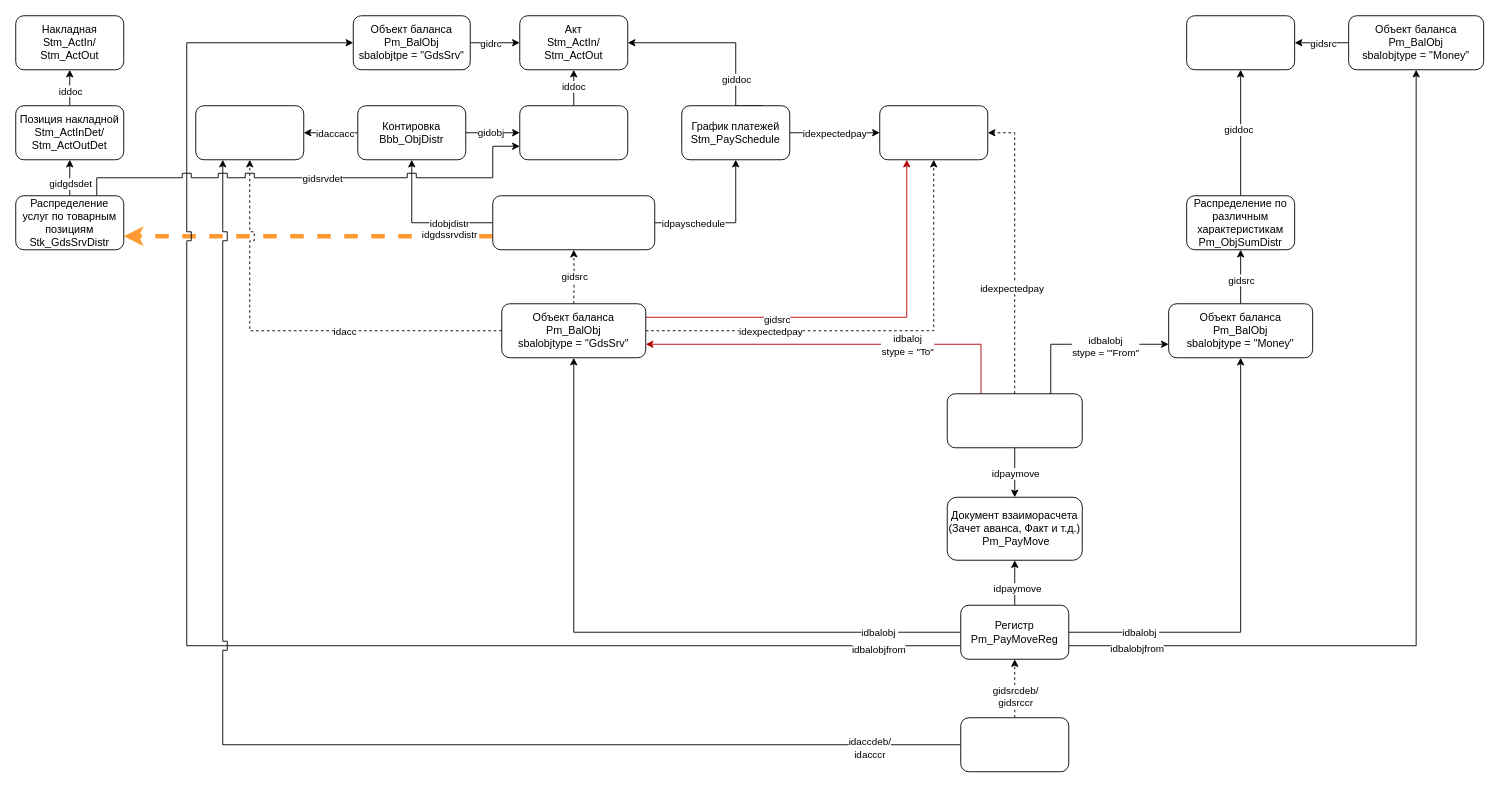
Image size: 1499x788. Some labels were removed from this diagram. Here are the shapes that lost their labels. From the top down, the centre of each, then its label:
At (x=1240, y=42): "Платежное поручение Pm_OrderBankIn/ Pm_OrderBankOut".
At (x=249, y=132): "Счет Bs_Acc".
At (x=573, y=132): "Позиция акта Stm_ActInDet/ Stm_ActOutDet".
At (x=933, y=132): "Документ предварительного платежа Pm_ExpectedPay".
At (x=573, y=222): "Распределение графика платежей по контировке Stm_PayScheduleObjDistr".
At (x=1014, y=420): "Фиксированное распределение Pm_PayMoveBOFixDistr".
At (x=1014, y=744): "Проводка Act_Trans".
